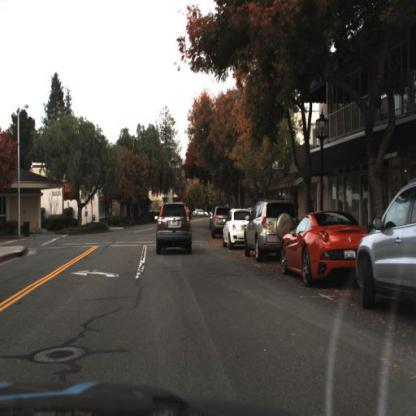car: (355, 179, 416, 314), (279, 209, 371, 289), (244, 198, 295, 263), (155, 194, 197, 258), (222, 204, 253, 248), (209, 203, 233, 242)
